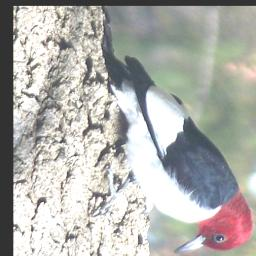Woodpecker: (85, 49, 255, 255)
